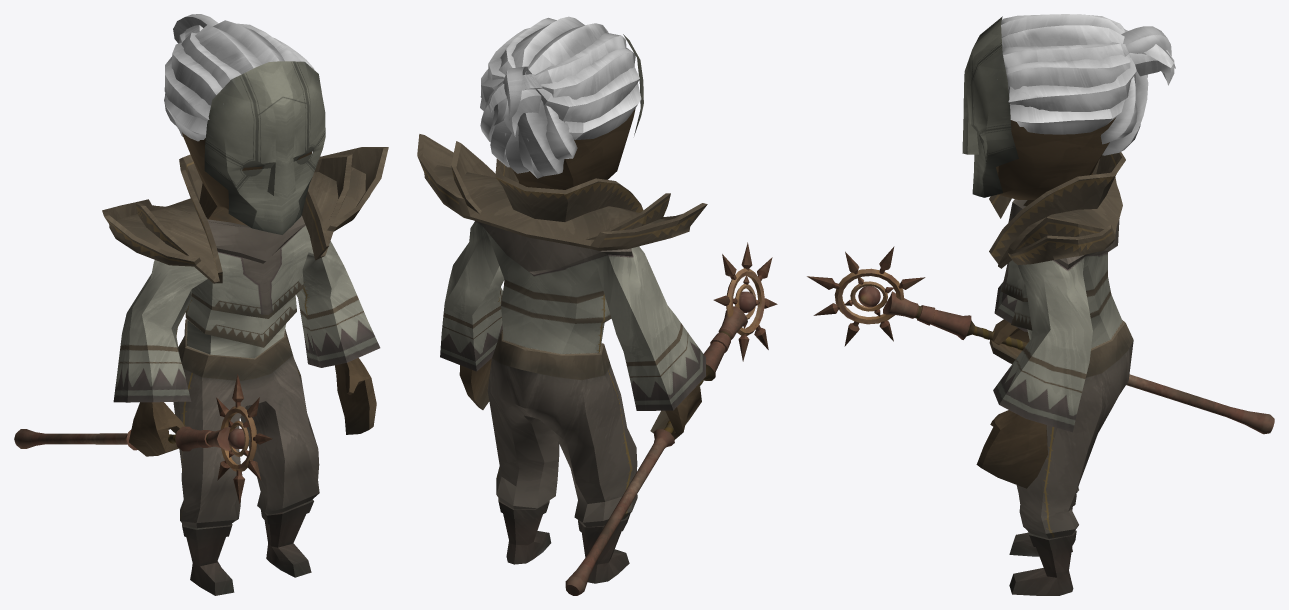
Rendered from Cleric.glb.
3 views of the same model, side by side, from view 1: azimuth 30°, elevation 25°; view 2: azimuth 150°, elevation 25°; view 3: azimuth 270°, elevation 25° (orthographic). The views are drawn at different scales.
Visible parts, largest first — view 1: Cleric__ncl1_29.004, Head__ncl1_29.003, ShoulderPads__ncl1_29.005, Cleric_Staff_Torus.010; view 2: Cleric__ncl1_29.004, Head__ncl1_29.003, ShoulderPads__ncl1_29.005, Cleric_Staff_Torus.010; view 3: Cleric__ncl1_29.004, Head__ncl1_29.003, ShoulderPads__ncl1_29.005, Cleric_Staff_Torus.010.
Part boxes in pixels (x1,y1,x2,y2): Cleric__ncl1_29.004: [113, 132, 380, 595]; Head__ncl1_29.003: [164, 14, 325, 234]; ShoulderPads__ncl1_29.005: [102, 147, 388, 283]; Cleric_Staff_Torus.010: [14, 374, 272, 503]; Cleric__ncl1_29.004: [440, 66, 705, 583]; Head__ncl1_29.003: [480, 16, 643, 178]; ShoulderPads__ncl1_29.005: [417, 134, 707, 250]; Cleric_Staff_Torus.010: [565, 242, 777, 595]; Cleric__ncl1_29.004: [976, 103, 1133, 595]; Head__ncl1_29.003: [962, 14, 1175, 197]; ShoulderPads__ncl1_29.005: [989, 152, 1125, 268]; Cleric_Staff_Torus.010: [807, 246, 1274, 434].
Size of the model in its own units: 1.66 by 2.96 by 2.28.
2 materials, 2 textured.
